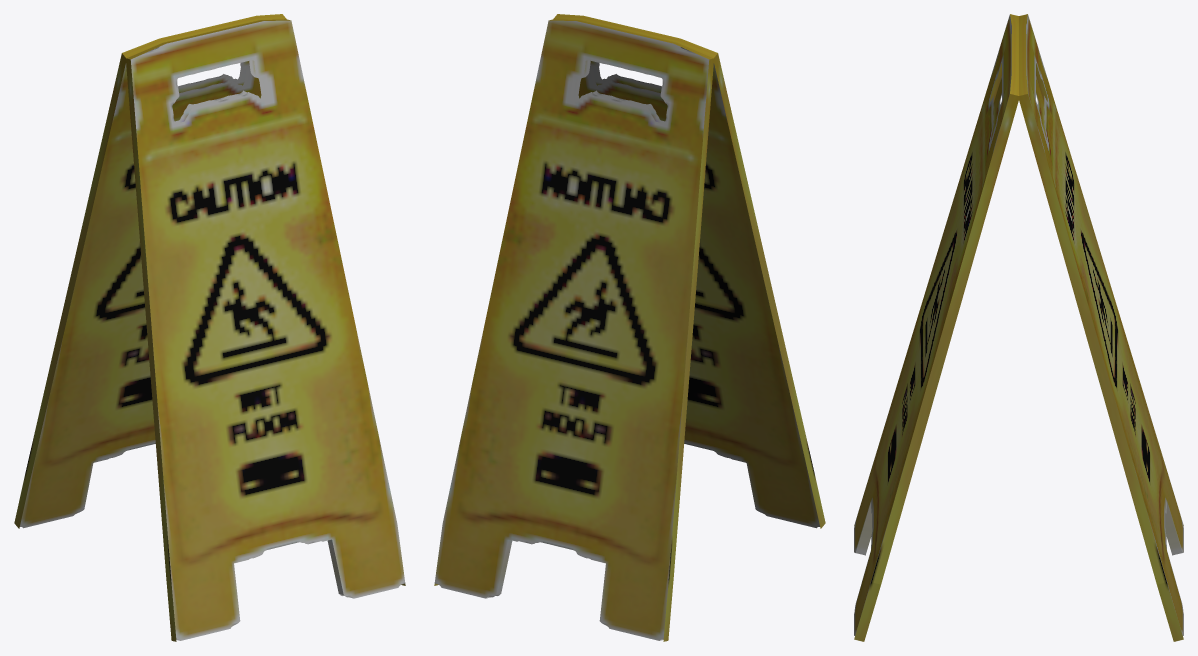
The model's file is wet_floor_sign.FBX.
The picture shows the model from 3 angles, left to right: view 1: azimuth 30°, elevation 25°; view 2: azimuth 150°, elevation 25°; view 3: azimuth 270°, elevation 25°; orthographic projection.
Parts seen in each view (by area): view 1: Box002; view 2: Box002; view 3: Box002.
Boxes of the visible parts, left/top/right/bottom form: Box002: left=14, top=14, right=405, bottom=641; Box002: left=434, top=14, right=825, bottom=641; Box002: left=854, top=14, right=1183, bottom=641.
Size of the model in its own units: 11.31 by 24.87 by 13.87.
